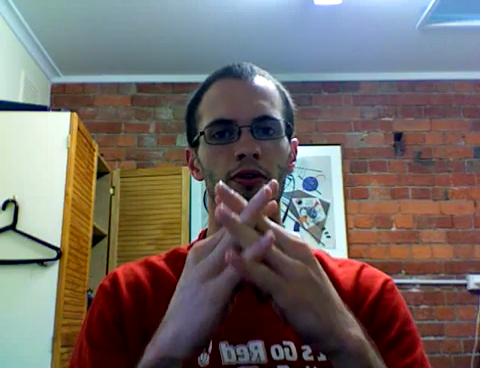W: (167, 171, 350, 339)
